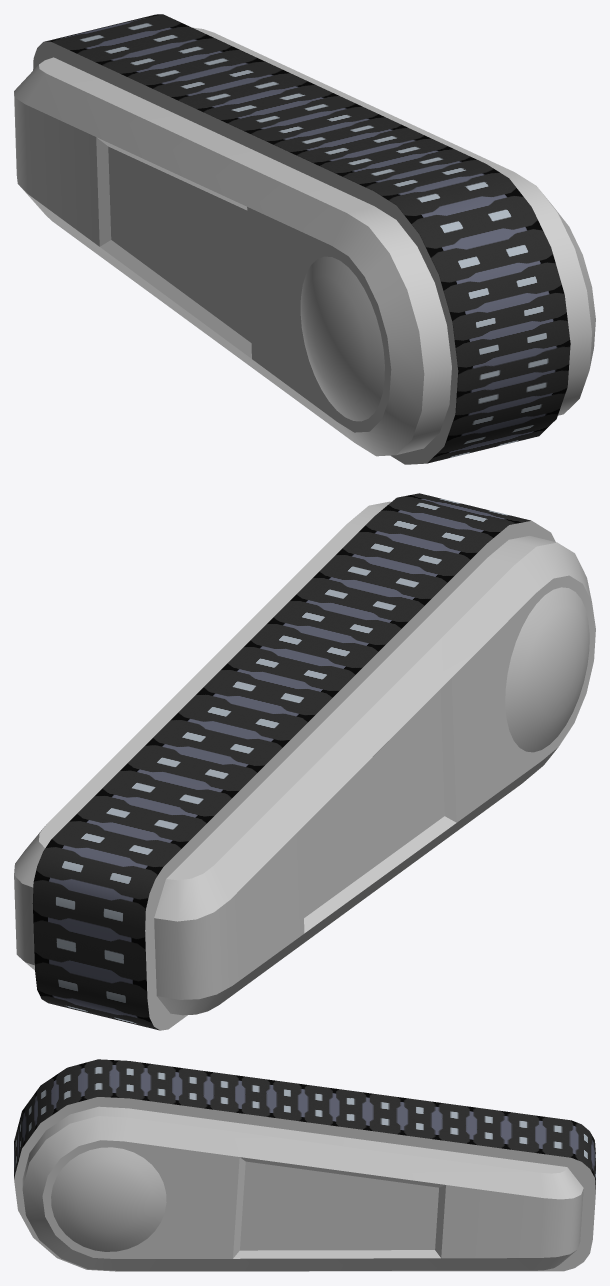
Rendered from Tank_Wheel_Dark_LF.FBX.
3 renders of one model, top to bottom at view 1: azimuth 30°, elevation 25°; view 2: azimuth 150°, elevation 25°; view 3: azimuth 270°, elevation 25°, orthographic. The views are drawn at different scales.
Visible parts, largest first — view 1: Tank_Wheel_Dark_LF, Wheel_LF; view 2: Tank_Wheel_Dark_LF, Wheel_LF; view 3: Tank_Wheel_Dark_LF, Wheel_LF.
Part boxes in pixels (x1,y1,x2,y2): Tank_Wheel_Dark_LF: (14,27,595,464); Wheel_LF: (44,14,570,463); Tank_Wheel_Dark_LF: (14,501,595,1030); Wheel_LF: (32,493,530,1030); Tank_Wheel_Dark_LF: (14,1097,595,1271); Wheel_LF: (14,1059,595,1189).
Bounding box in the file's own units: 2.05 × 2.09 × 6.3.
